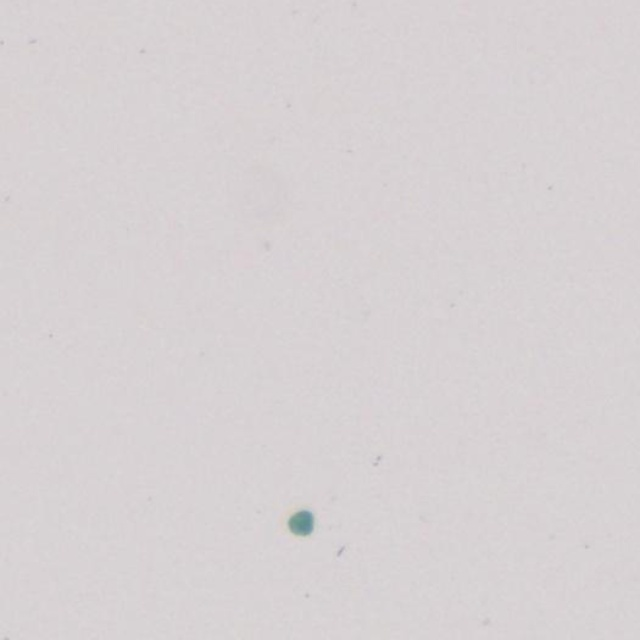non_viable: (288, 510, 313, 535)
